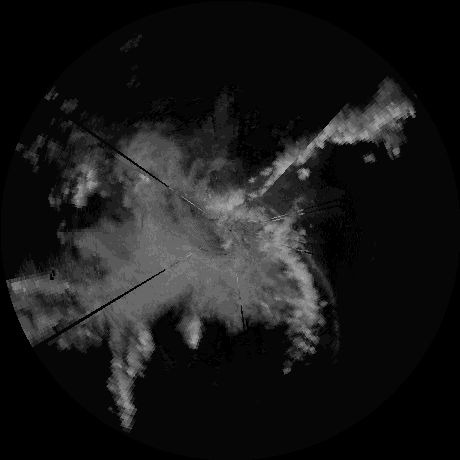frontgust: (298, 243, 341, 334), (255, 200, 280, 217)
